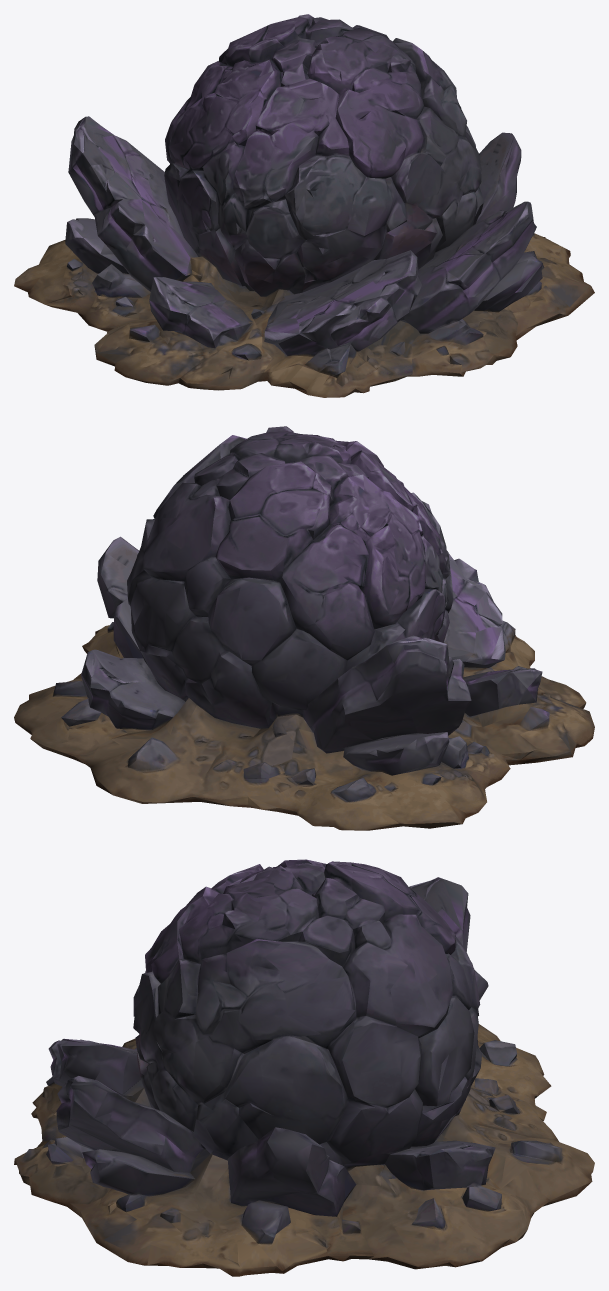
3 renders of one model, top to bottom at view 1: azimuth 30°, elevation 25°; view 2: azimuth 150°, elevation 25°; view 3: azimuth 270°, elevation 25°, orthographic. The views are drawn at different scales.
Parts seen in each view (by area): view 1: star_core; view 2: star_core; view 3: star_core.
Boxes of the visible parts, box(x1,y1,x2,y2) form: star_core: box(14, 14, 594, 397); star_core: box(14, 426, 594, 830); star_core: box(14, 859, 594, 1276).
Bounding box in the file's own units: 0.9826 × 0.5102 × 0.9382.
1 material, 1 textured.
